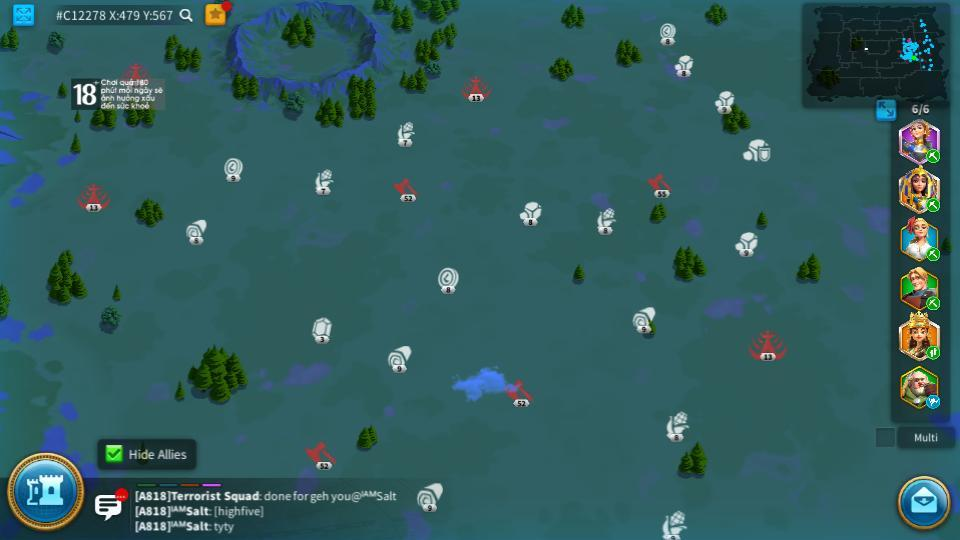gem-z-out: (310, 318, 335, 341)
march_idle: (925, 396, 942, 408)
march_marching: (925, 196, 941, 211), (925, 345, 941, 359), (925, 150, 942, 162), (925, 248, 942, 260), (925, 297, 942, 308)
